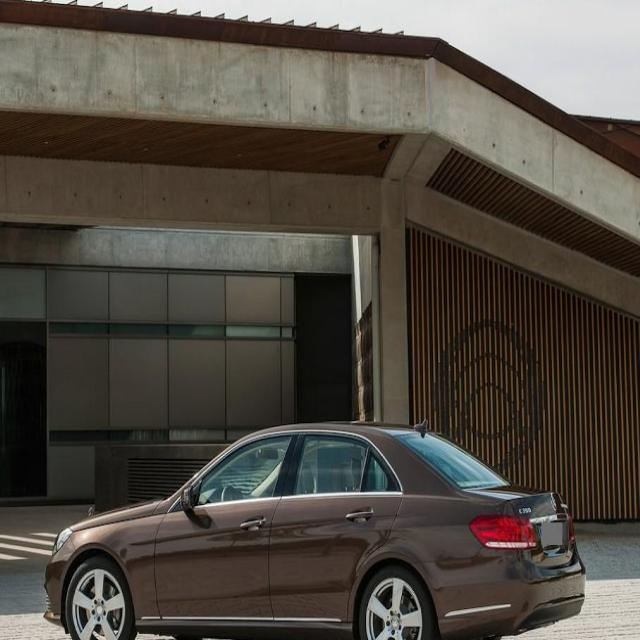back_glass: (393, 429, 511, 491)
back_left_side_light: (469, 512, 540, 552)
back_right_side_light: (566, 514, 576, 543)
door: (267, 430, 401, 620)
front_bumper: (357, 566, 432, 640), (43, 534, 78, 628)
front_left_side_door: (153, 429, 300, 622)
front_left_side_light: (49, 525, 74, 558)
front_left_side_mirror: (179, 482, 195, 514)
rear_bumper: (413, 539, 586, 640)
wheel: (66, 555, 136, 640)
